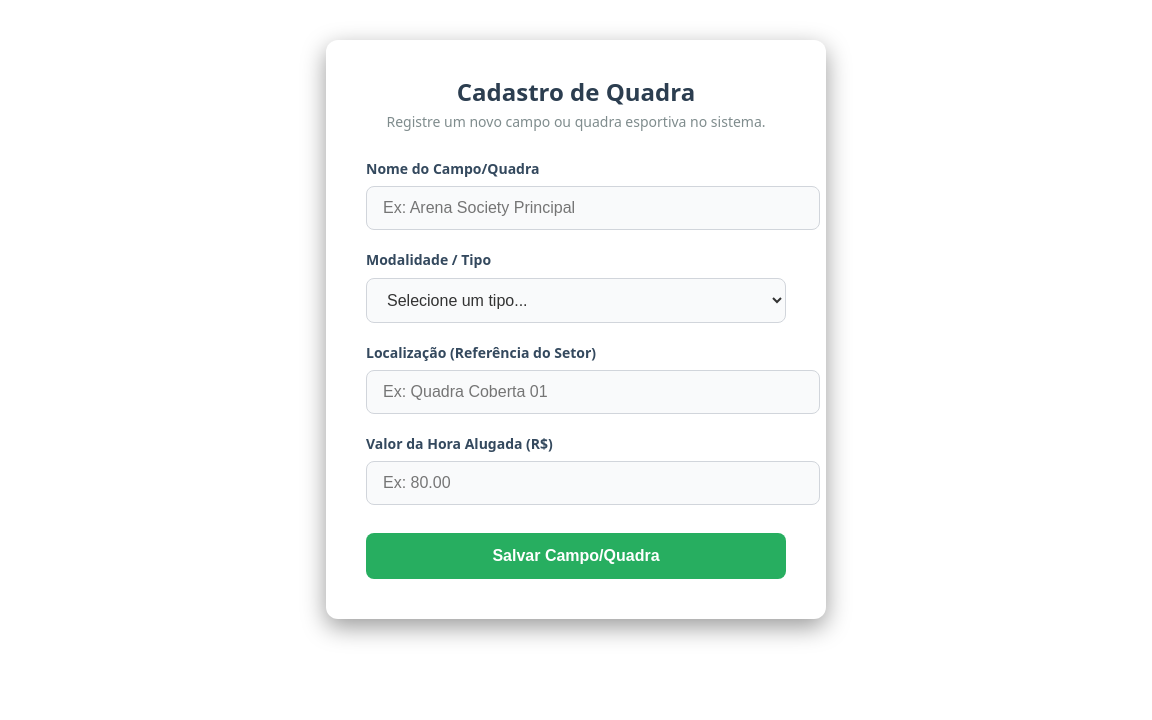
it: Componente CadastroQuadra › exibe erros de validação ao tentar salvar formulário vazio
The width and height of the screenshot is (1152, 720).
Step 1. Click the button "Salvar Campo/Quadra" → x=576, y=556, box [366,533,786,579]
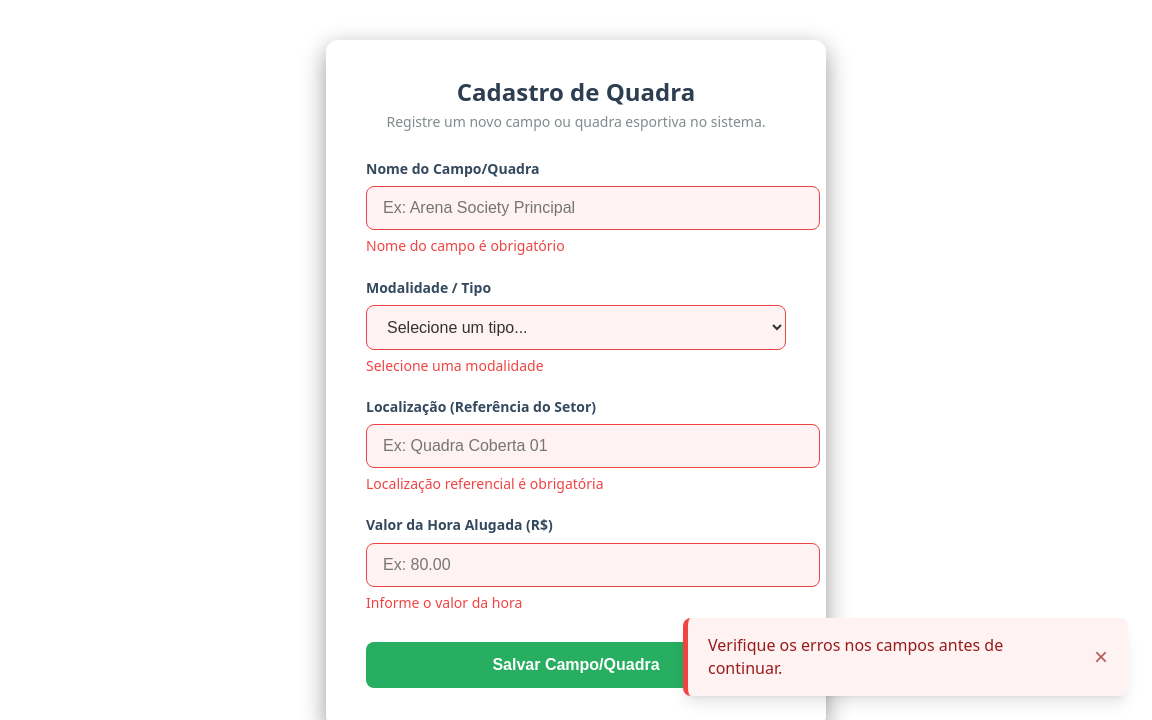
Expected: the text "Nome do campo é obrigatório" is shown, [366,236,565,255]
Expected: the text "Selecione uma modalidade" is shown, [366,356,544,375]
Expected: the text "Localização referencial é obrigatória" is shown, [366,474,604,493]
